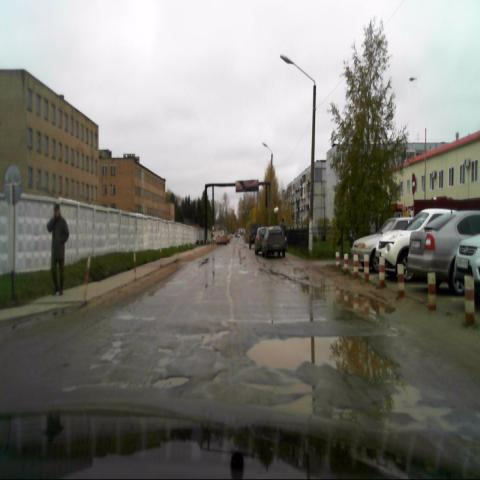3_1: (410, 174, 416, 196)
